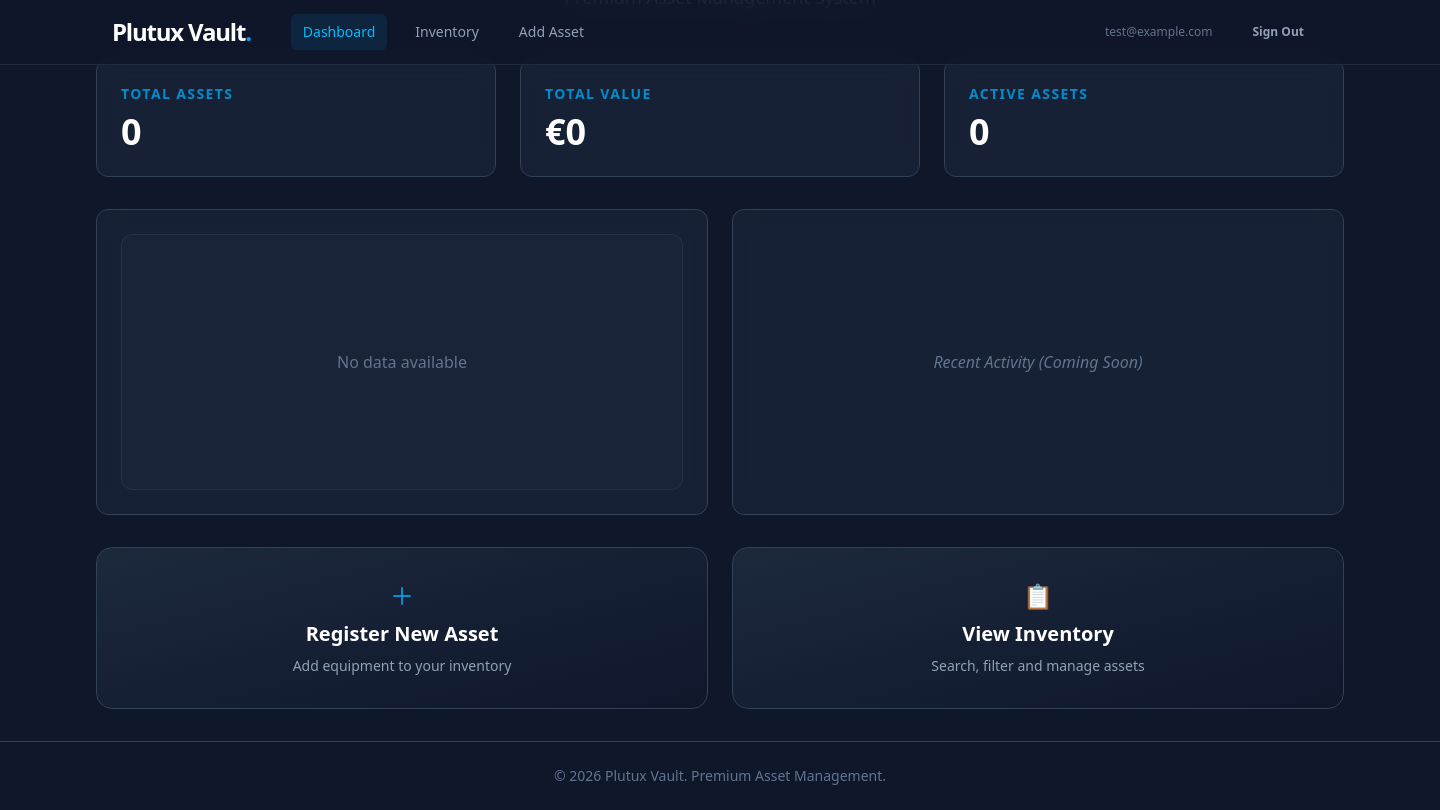
Test case: App Integration › navigates to the inventory list
This screenshot has width=1440, height=810.
(page scrolled)
What coordinates should you click on to do the following:
click the link "📋 View Inventory Search, filter and manage assets"
I would click on:
 (1038, 628)
Its box is [732,547,1344,709].
(page scrolled)
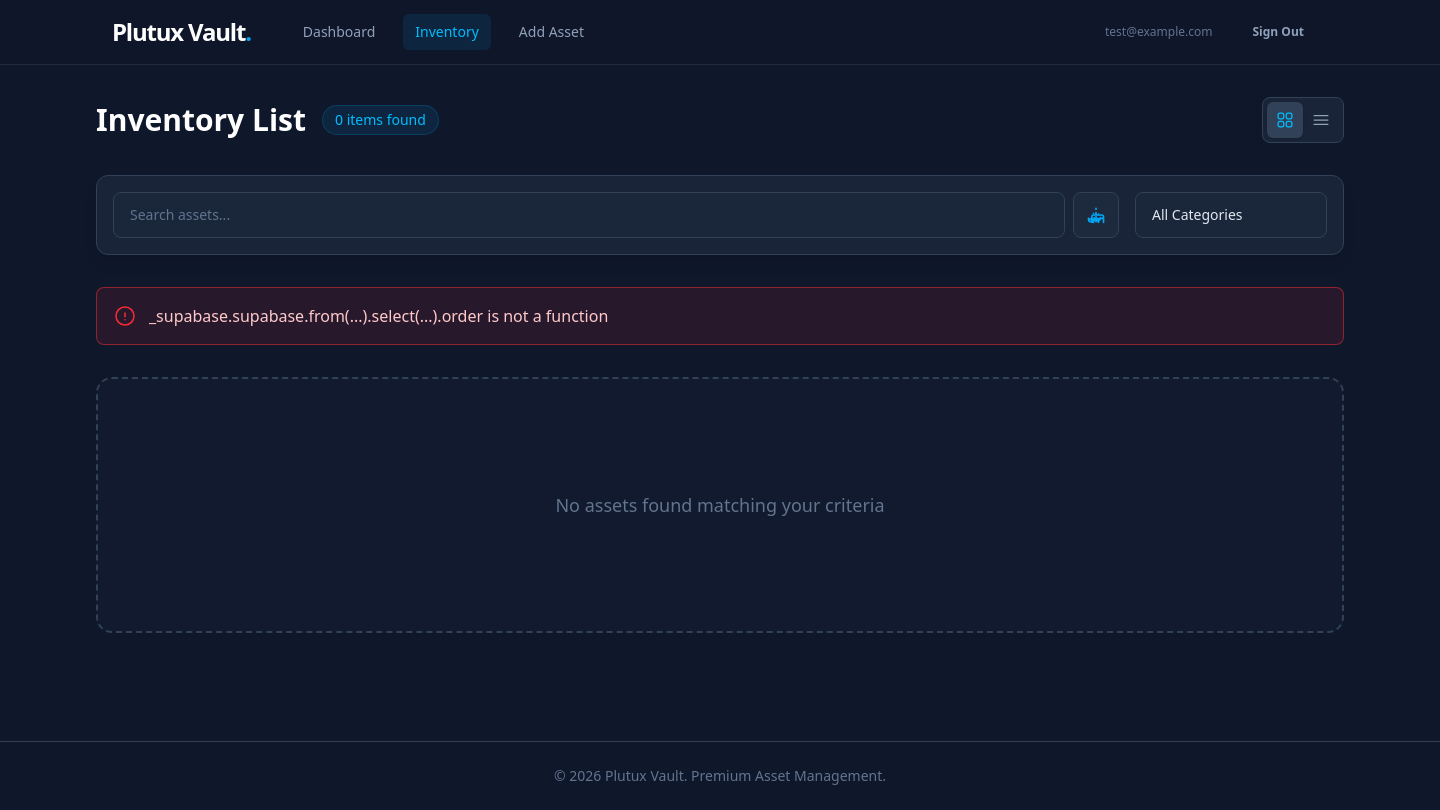
Now the heading "Inventory List" is shown, box [96,102,306,138]
Now the text "0 items found" is shown, box [322,105,439,135]
